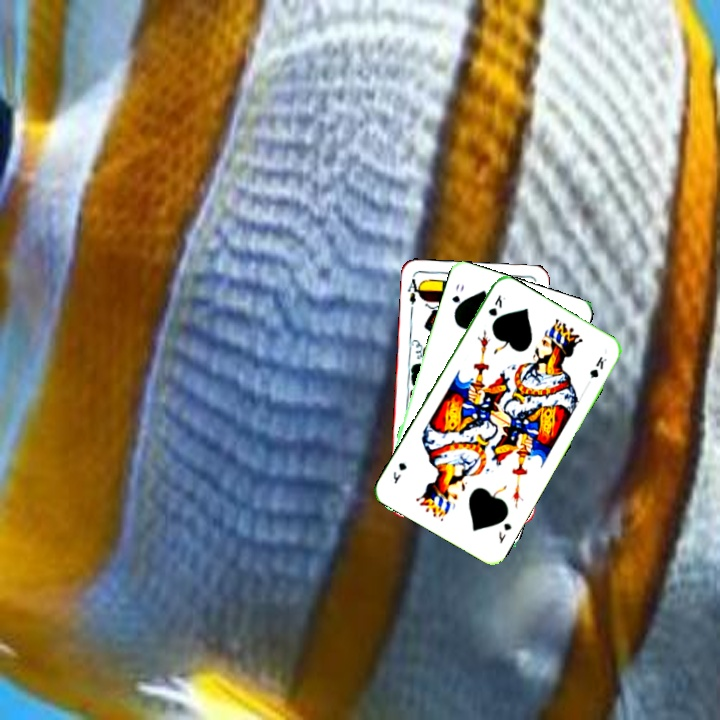EA: (403, 275, 423, 307)
GK: (484, 291, 508, 319), (494, 519, 514, 546)
GO: (448, 279, 467, 316)
